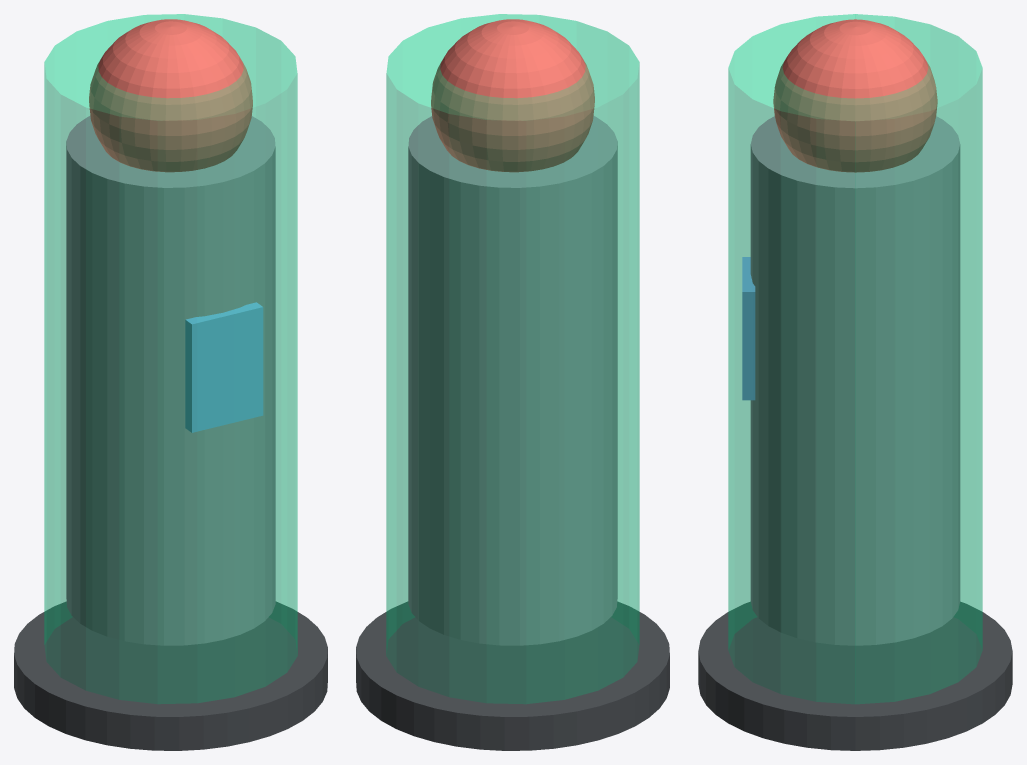
File: prop_target_dummy_01.glb
The picture shows the model from 3 angles, left to right: view 1: azimuth 30°, elevation 25°; view 2: azimuth 150°, elevation 25°; view 3: azimuth 270°, elevation 25°; orthographic projection.
Parts seen in each view (by area): view 1: col_prop_target_dummy_01, prop_target_dummy_01_body, prop_target_dummy_01_base, prop_target_dummy_01_head, prop_target_dummy_01_torso_zone; view 2: col_prop_target_dummy_01, prop_target_dummy_01_body, prop_target_dummy_01_base, prop_target_dummy_01_head; view 3: col_prop_target_dummy_01, prop_target_dummy_01_body, prop_target_dummy_01_base, prop_target_dummy_01_head, prop_target_dummy_01_torso_zone.
Boxes of the visible parts, left/top/right/bottom form: col_prop_target_dummy_01: left=44, top=14, right=297, bottom=703; prop_target_dummy_01_body: left=66, top=116, right=275, bottom=645; prop_target_dummy_01_base: left=14, top=601, right=327, bottom=750; prop_target_dummy_01_head: left=89, top=19, right=252, bottom=172; prop_target_dummy_01_torso_zone: left=185, top=302, right=263, bottom=432; col_prop_target_dummy_01: left=386, top=14, right=639, bottom=703; prop_target_dummy_01_body: left=408, top=116, right=617, bottom=645; prop_target_dummy_01_base: left=356, top=601, right=669, bottom=750; prop_target_dummy_01_head: left=431, top=19, right=594, bottom=172; col_prop_target_dummy_01: left=728, top=14, right=982, bottom=703; prop_target_dummy_01_body: left=750, top=116, right=960, bottom=645; prop_target_dummy_01_base: left=698, top=601, right=1012, bottom=750; prop_target_dummy_01_head: left=773, top=19, right=937, bottom=172; prop_target_dummy_01_torso_zone: left=742, top=257, right=755, bottom=400.
Bounding box in the file's own units: 0.84 × 1.94 × 0.84.
